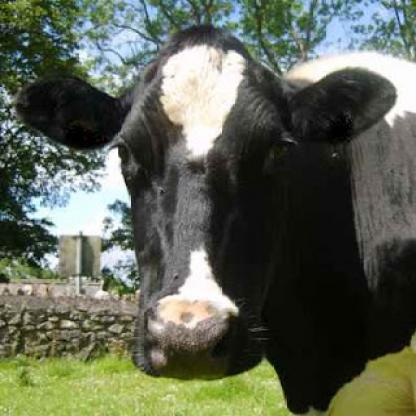mouth: (138, 304, 264, 381)
upper: (180, 326, 207, 342)
